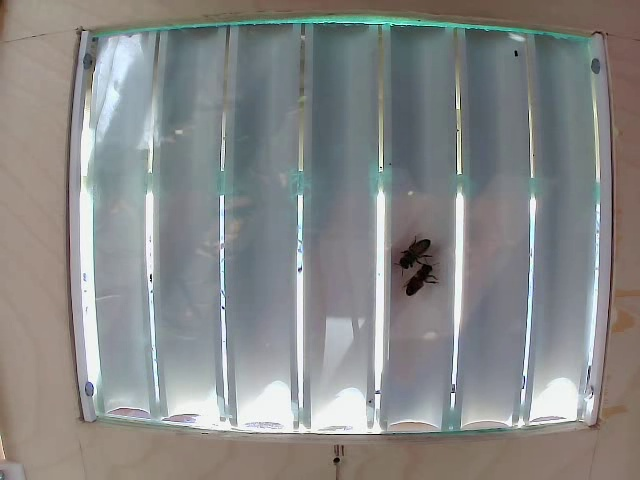bee: (401, 265, 441, 305), (396, 238, 426, 273)
